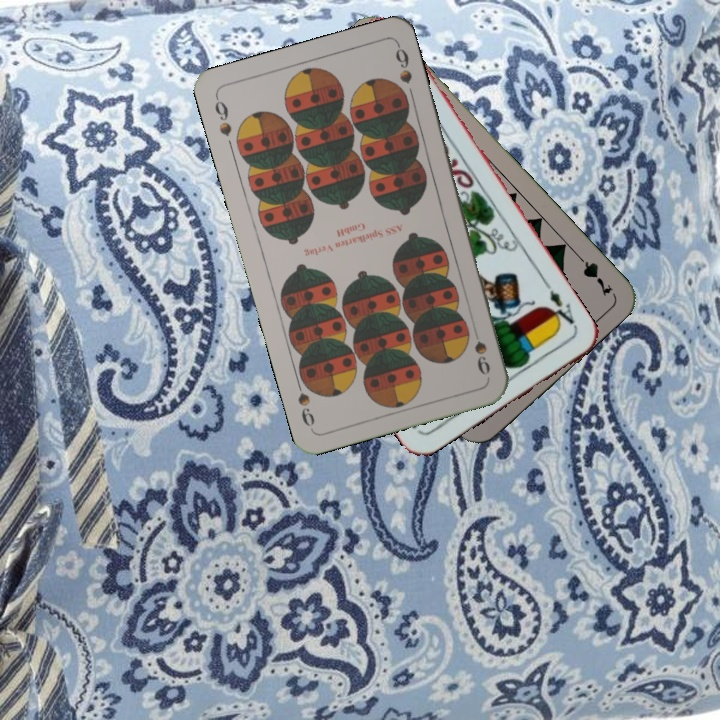EA: (541, 279, 580, 331)
G7: (570, 248, 616, 300)
S9: (210, 92, 235, 139), (470, 337, 493, 378)
